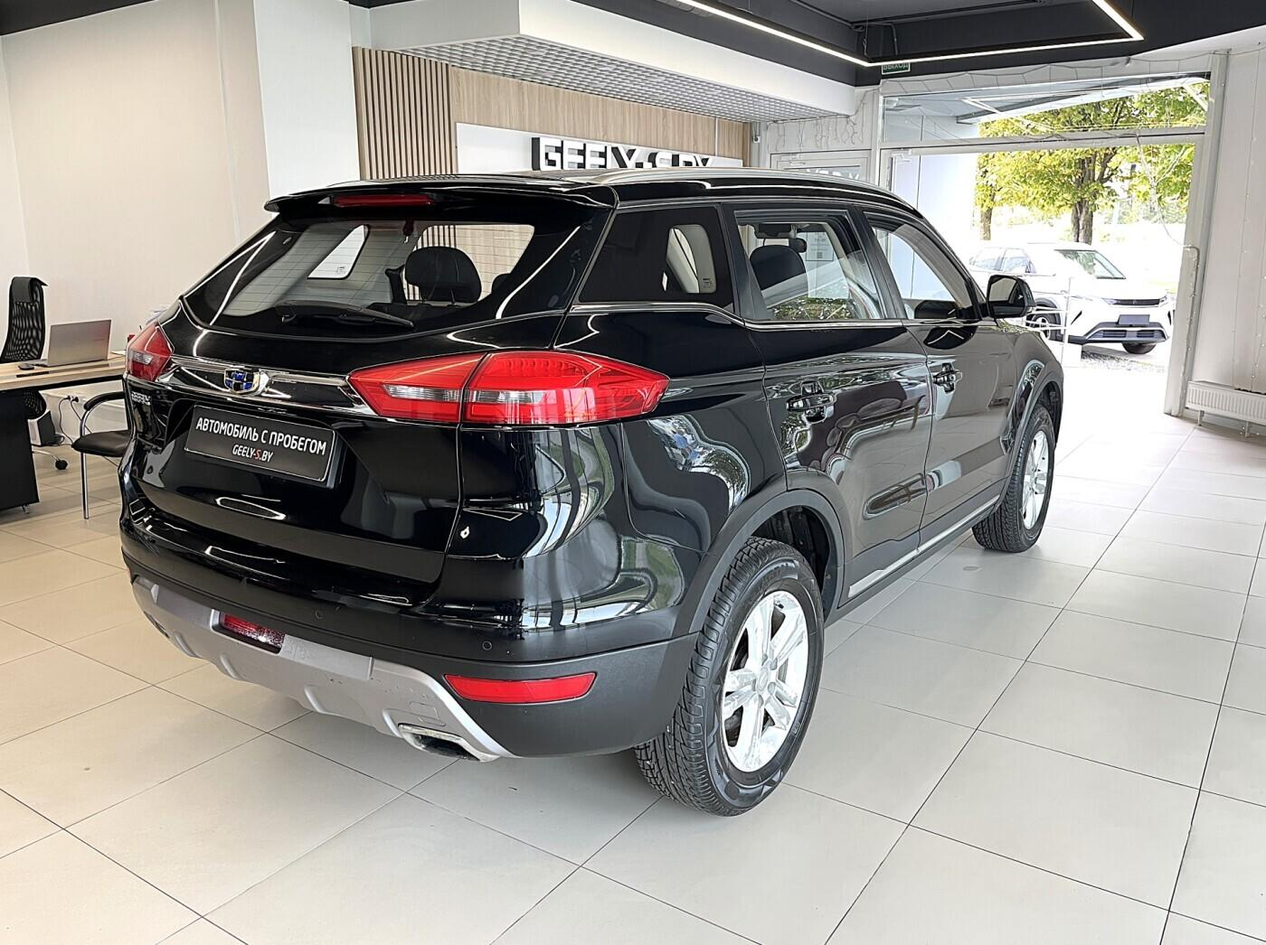Atlas_2016-2023: (109, 165, 1070, 818)
